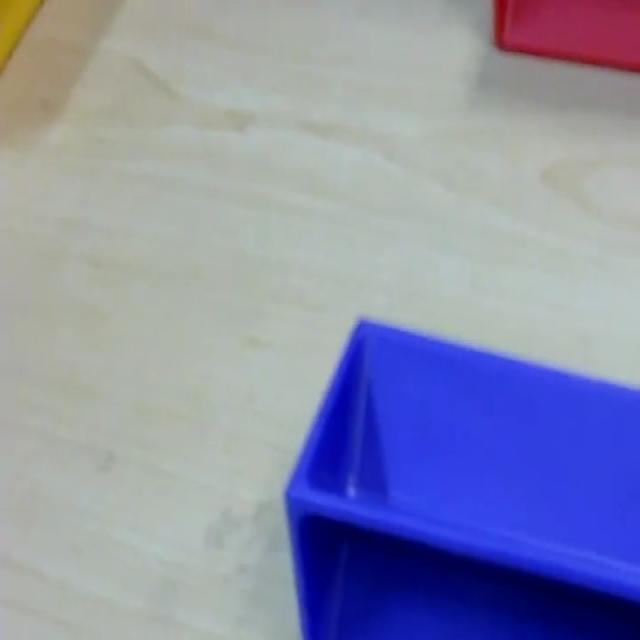blue_block: (283, 313, 638, 636)
red_block: (490, 0, 639, 72)
